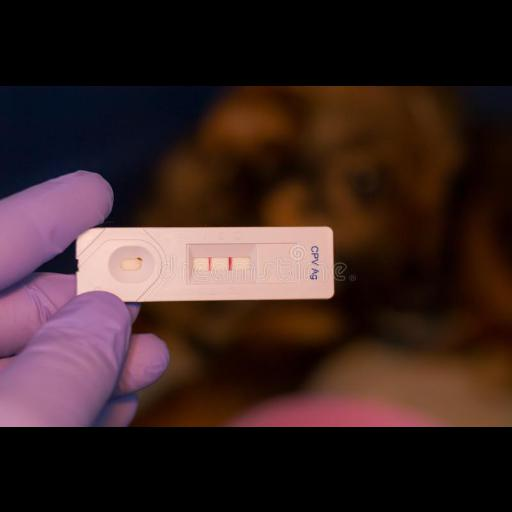Pos: (75, 226, 333, 298)
